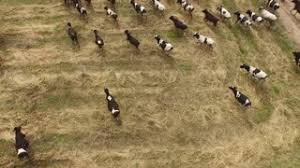sheep: (101, 84, 123, 120), (12, 125, 30, 160), (239, 63, 268, 81), (229, 84, 250, 107), (153, 32, 173, 53), (121, 27, 140, 48), (167, 12, 188, 31), (65, 20, 79, 45), (194, 32, 215, 48), (200, 8, 219, 25), (89, 28, 105, 48), (245, 6, 263, 22), (102, 4, 118, 20), (234, 10, 252, 24), (130, 1, 148, 15), (259, 7, 276, 21), (215, 4, 231, 18), (73, 2, 88, 16)
